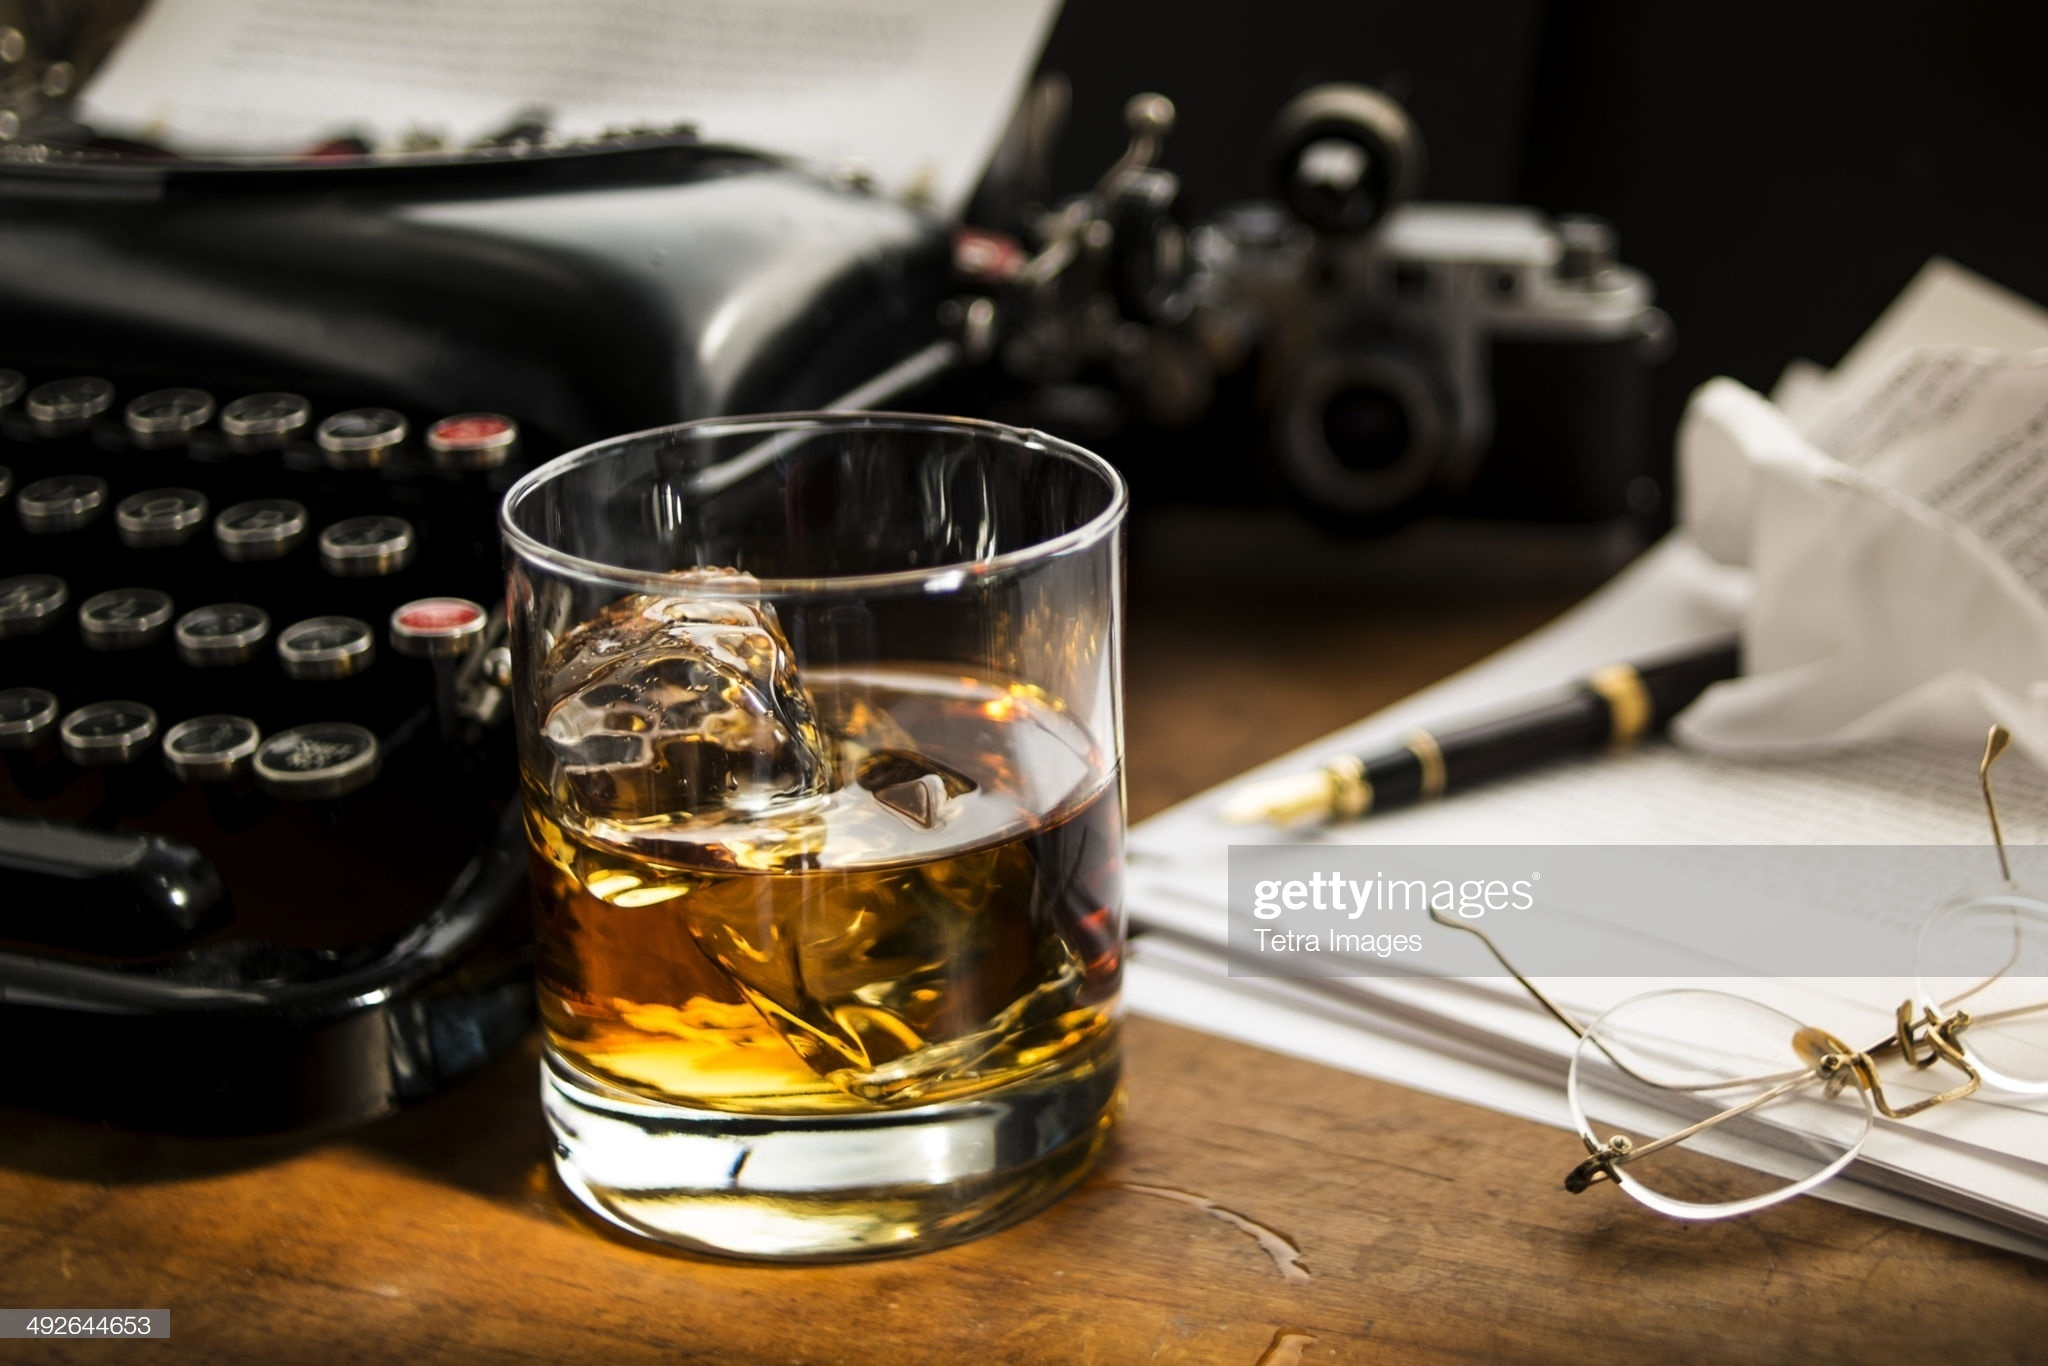whiskey: (518, 402, 1141, 1281)
